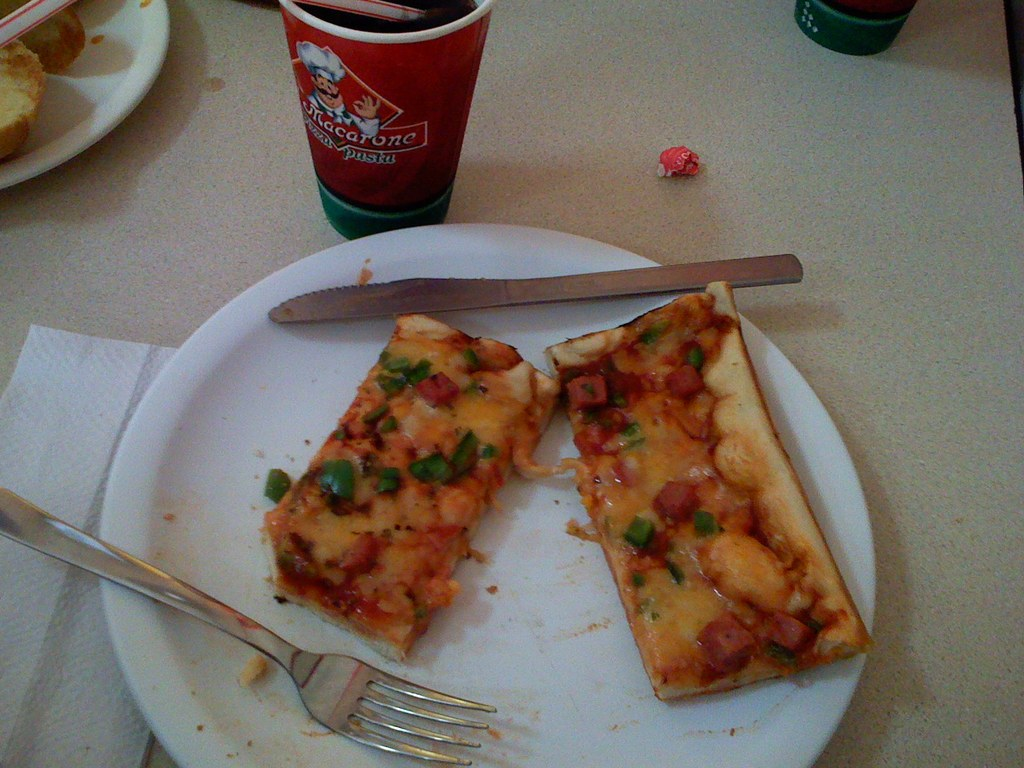Pizza: (547, 306, 840, 686), (257, 312, 558, 657)
